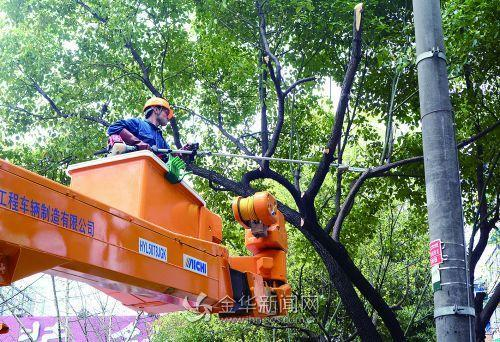helmet: (141, 96, 175, 129)
